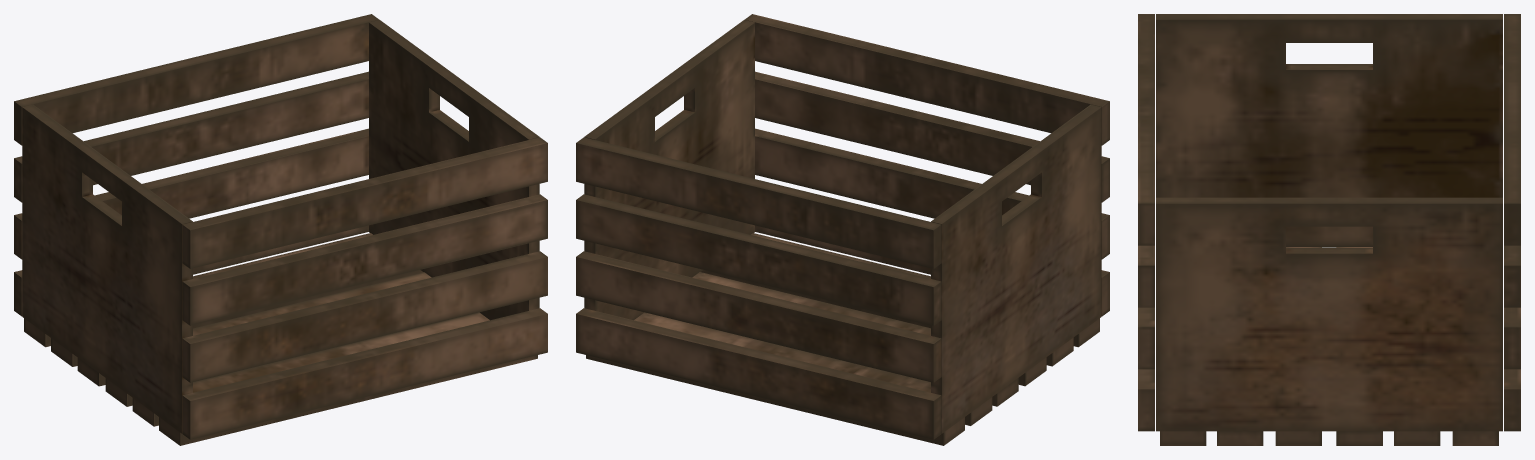
File: Small wooden crate.fbx
3 renders of one model, left to right at view 1: azimuth 30°, elevation 25°; view 2: azimuth 150°, elevation 25°; view 3: azimuth 270°, elevation 25°, orthographic. The views are drawn at different scales.
Parts seen in each view (by area): view 1: Cube.002; view 2: Cube.002; view 3: Cube.002.
Part boxes in pixels (box(x1,y1,x2,y2)): Cube.002: box(14, 14, 547, 445); Cube.002: box(576, 14, 1109, 445); Cube.002: box(1138, 14, 1520, 445).
Bounding box in the file's own units: 97.63 × 58.21 × 83.33.
